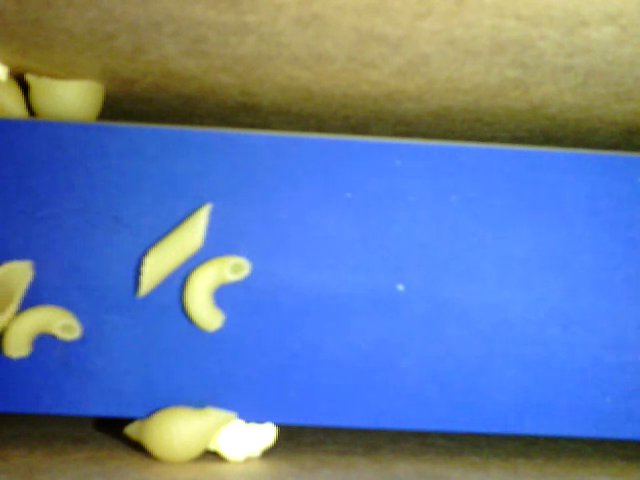elbow: (179, 252, 256, 333), (3, 307, 81, 361)
penne: (138, 197, 213, 300)
shell: (124, 403, 237, 462), (22, 66, 107, 120)
